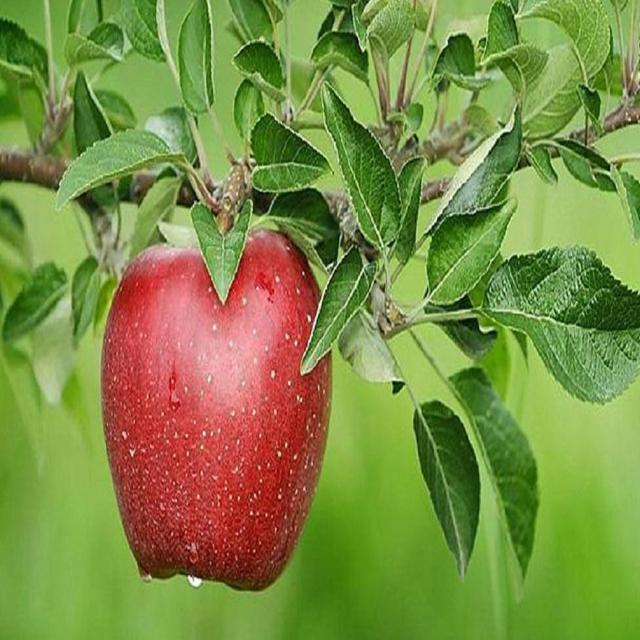Apple: (98, 226, 336, 594)
